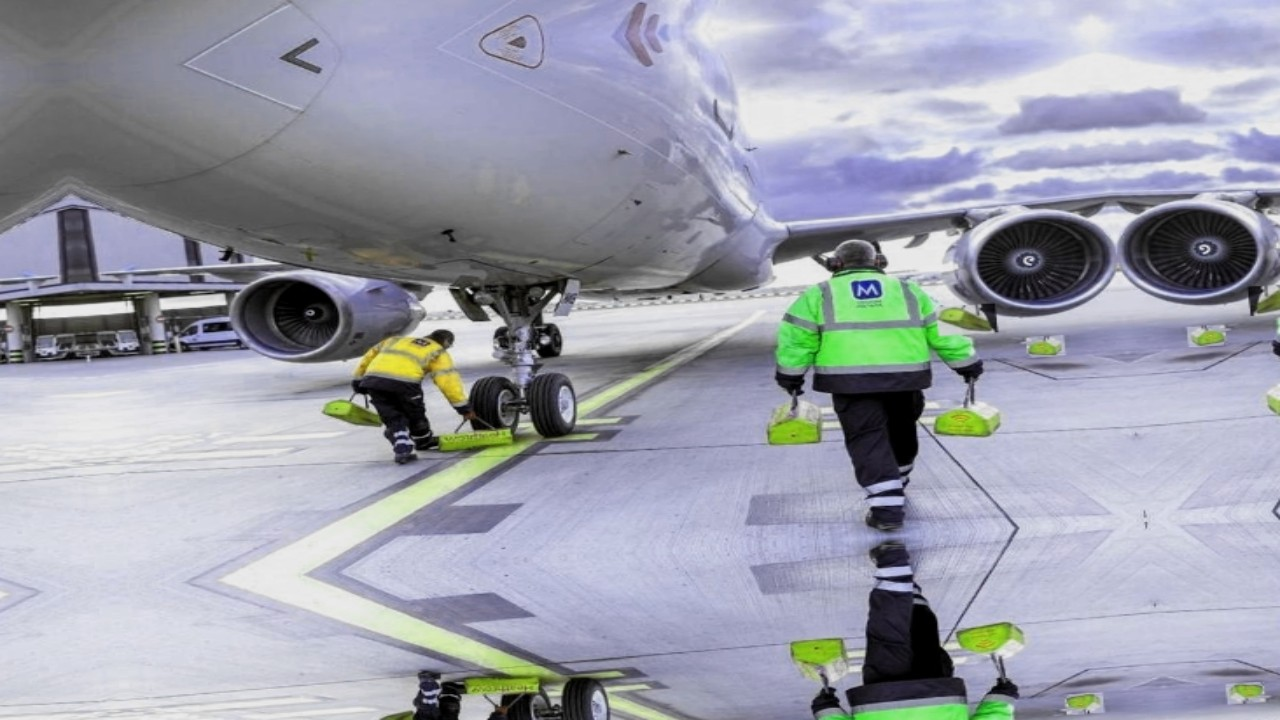chock: (927, 396, 1009, 442), (952, 620, 1034, 666), (785, 634, 851, 691), (759, 394, 824, 451), (320, 395, 390, 433), (435, 427, 514, 454), (462, 673, 541, 699), (936, 303, 998, 336), (1249, 283, 1280, 316), (1064, 693, 1105, 716), (1026, 335, 1066, 358), (1188, 324, 1228, 347), (1227, 683, 1267, 705)
wheel: (525, 370, 581, 439), (467, 374, 525, 437), (558, 677, 614, 720), (501, 686, 559, 720), (533, 322, 565, 358), (492, 325, 513, 346)
